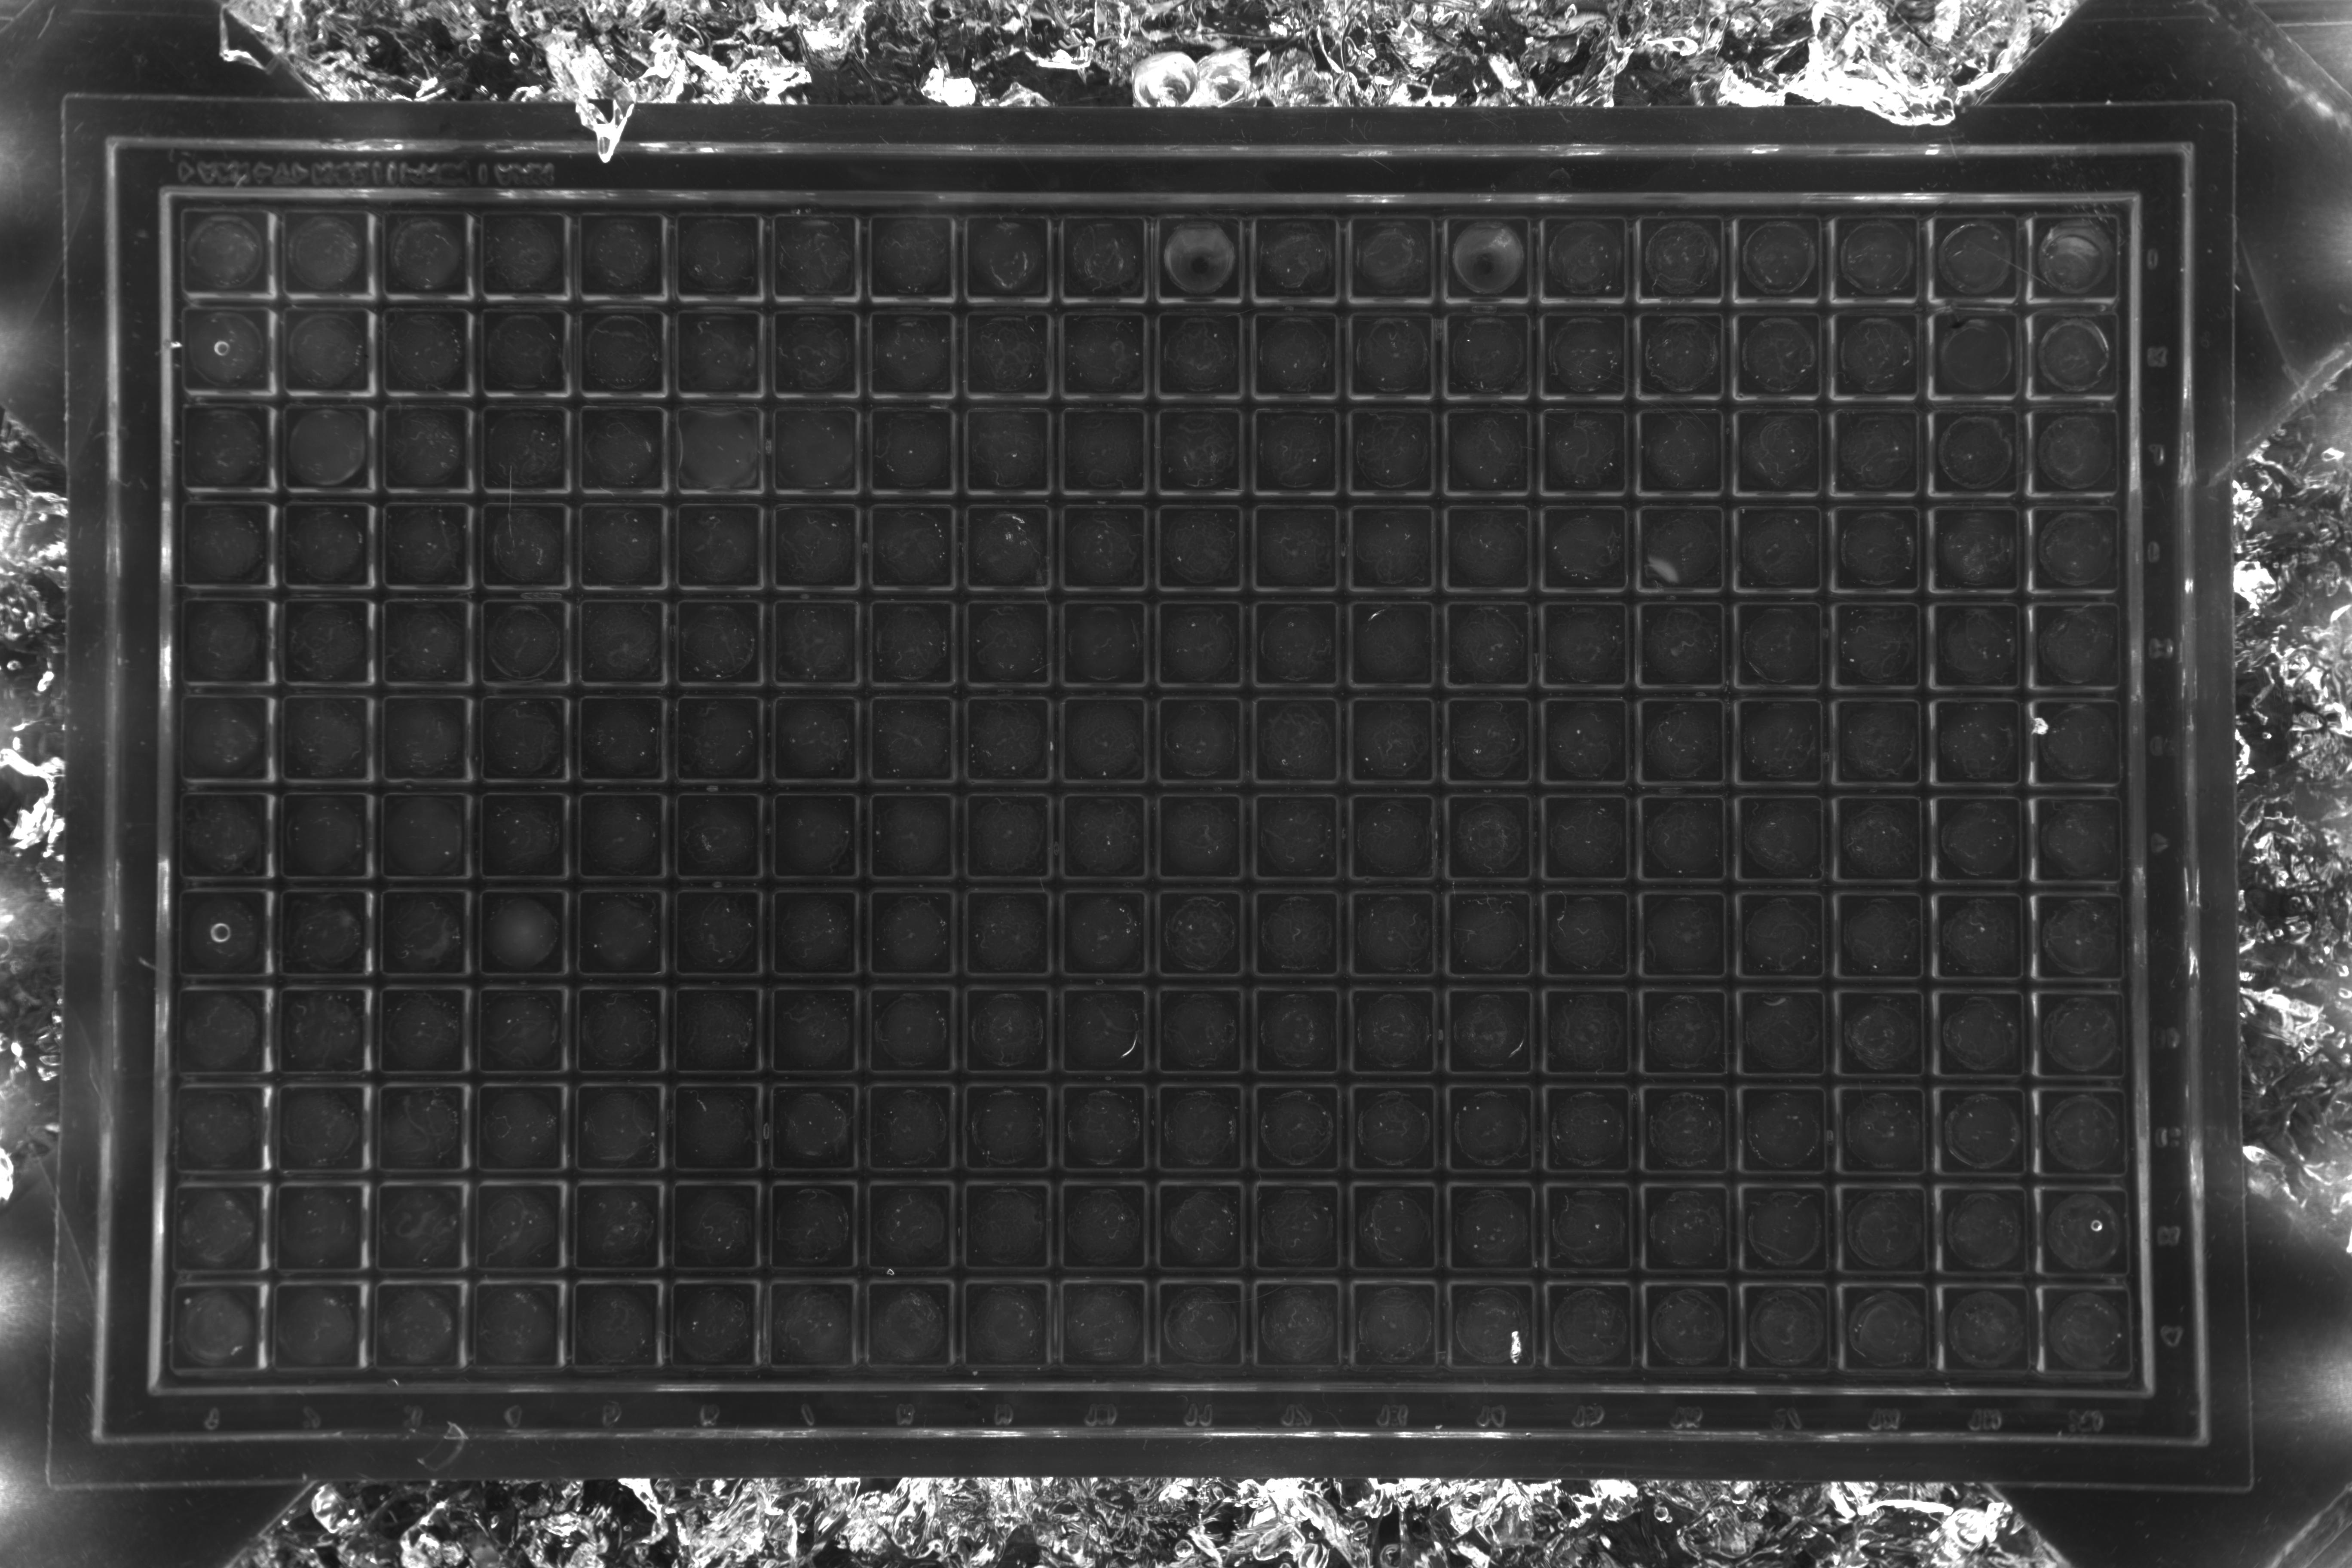WM_well: (299, 845, 388, 933), (497, 266, 586, 353), (497, 556, 586, 644), (590, 1043, 679, 1130), (198, 1043, 285, 1130), (289, 1342, 376, 1430), (303, 360, 390, 448), (388, 1340, 476, 1428), (401, 555, 488, 642), (595, 362, 682, 450), (693, 268, 780, 355), (784, 1239, 871, 1326), (789, 654, 877, 742), (983, 366, 1071, 453), (1078, 1239, 1165, 1326), (1272, 269, 1360, 357), (1274, 1143, 1361, 1230), (1563, 366, 1650, 453), (1563, 560, 1650, 647), (1857, 268, 1944, 355), (1857, 366, 1944, 453), (1963, 1151, 2051, 1239), (2054, 366, 2142, 453)
